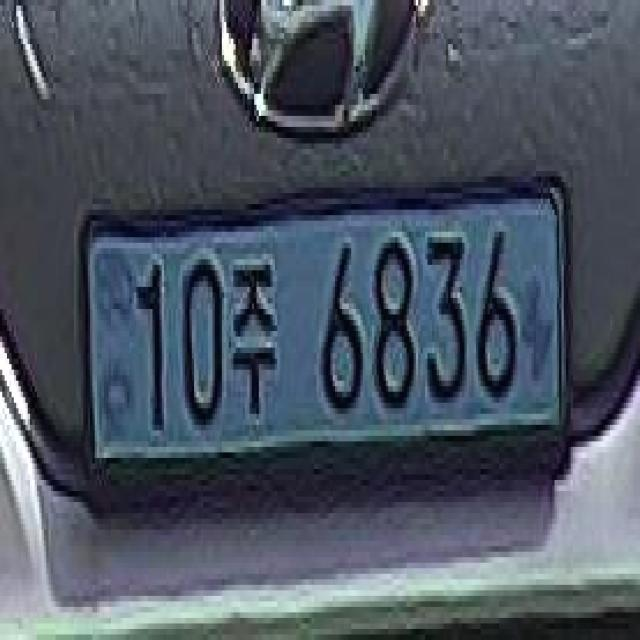EV_plate: (79, 162, 571, 516)
